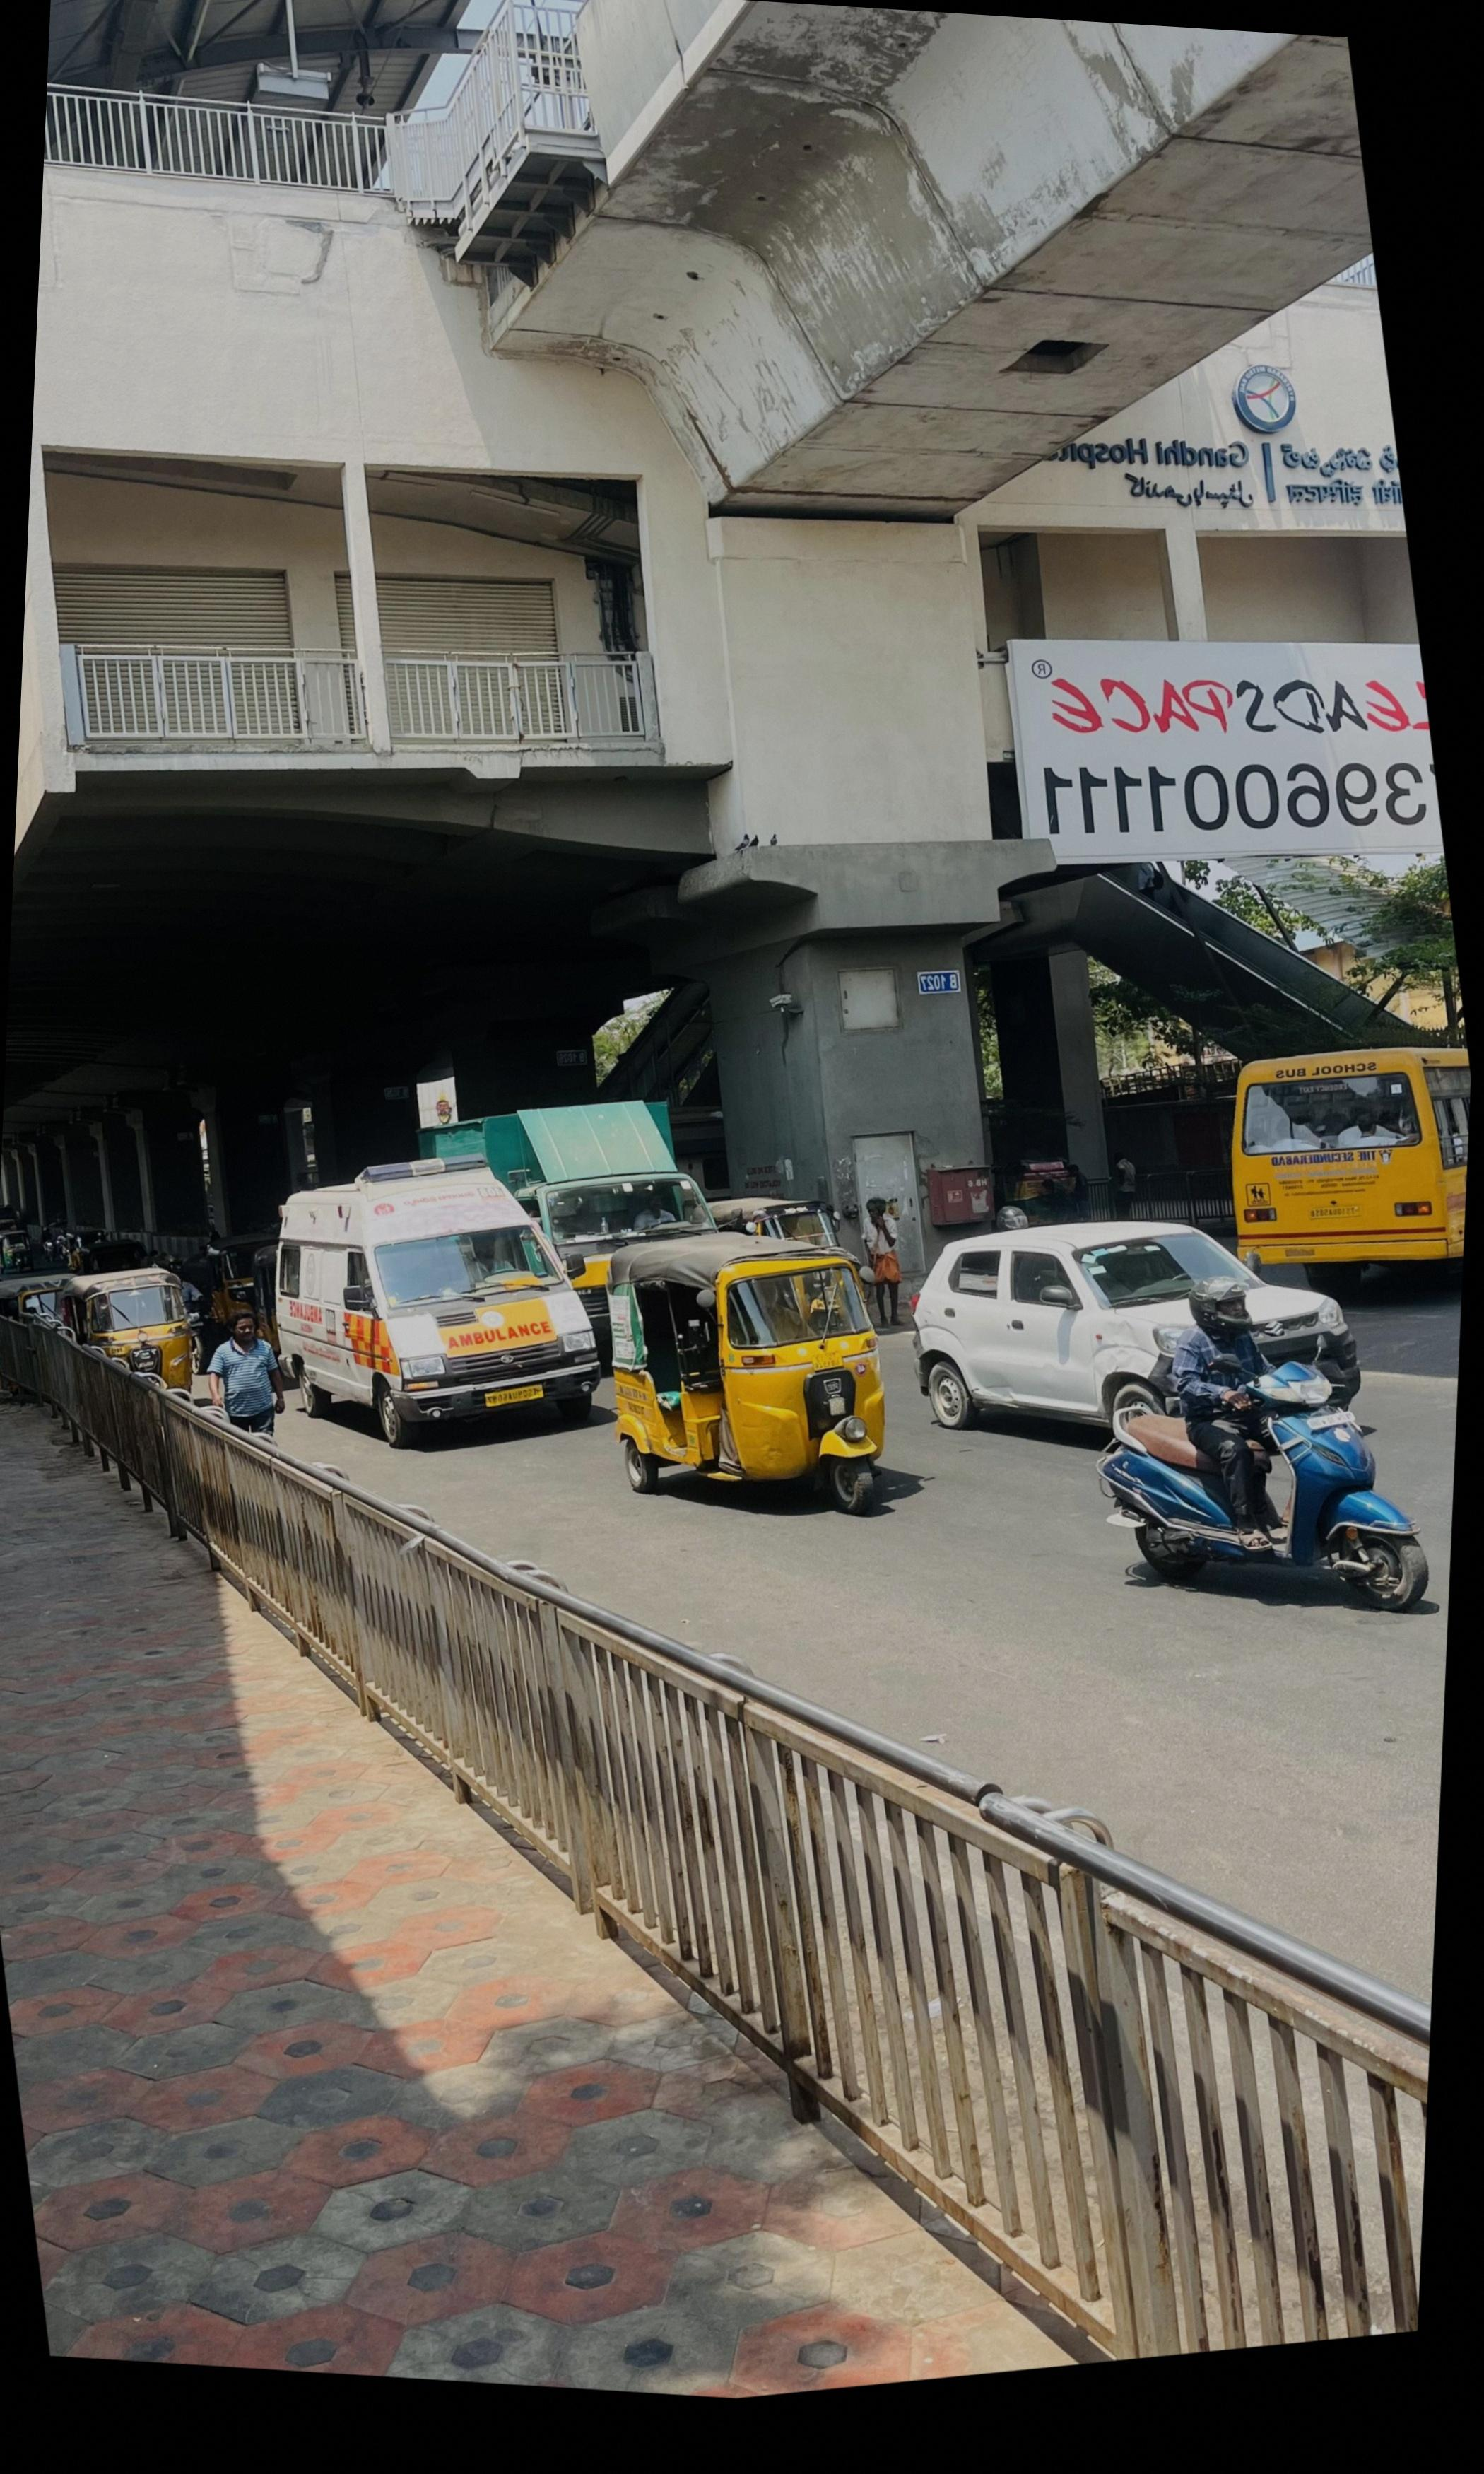ambulance: (274, 1149, 606, 1449)
